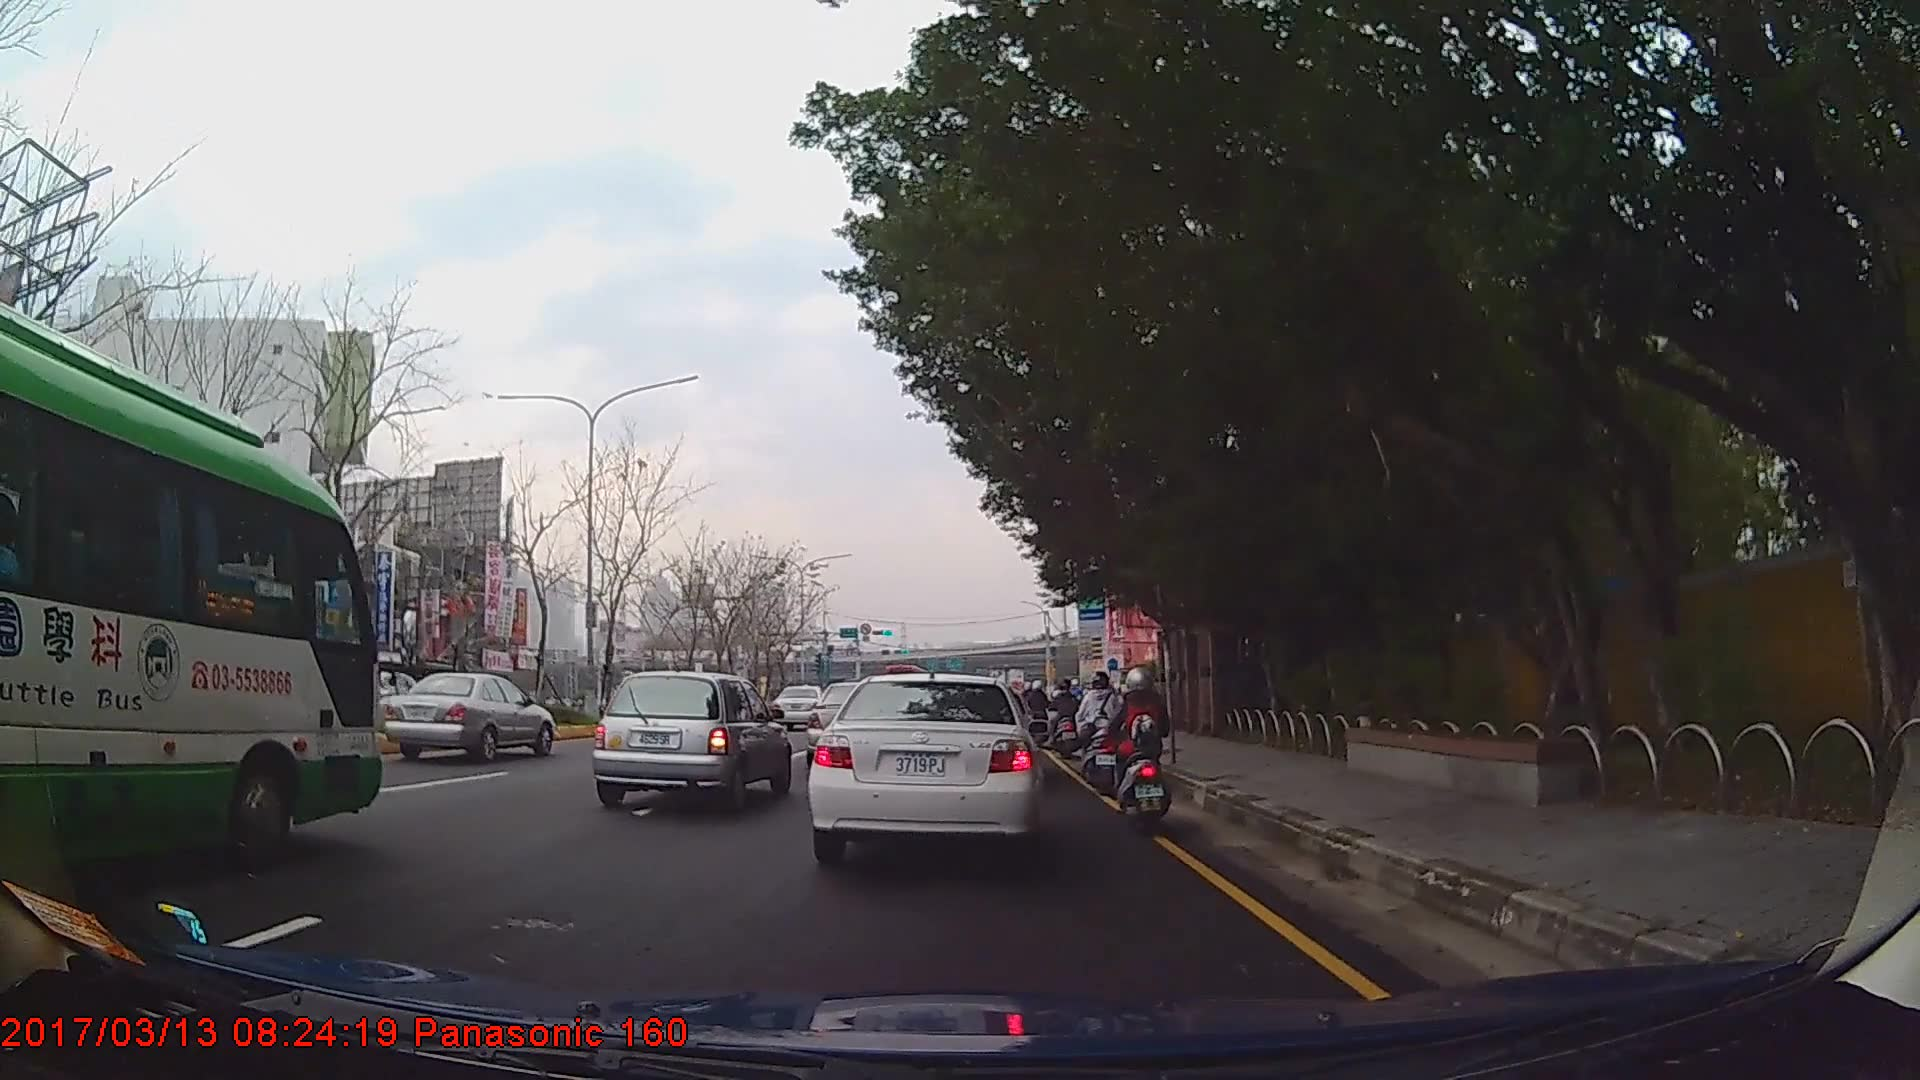rider: (1104, 661, 1164, 820), (1077, 669, 1120, 788), (1052, 681, 1079, 750)
vehicle: (0, 295, 383, 883), (805, 669, 1043, 859), (590, 670, 790, 811), (384, 671, 551, 765), (773, 683, 828, 727)
